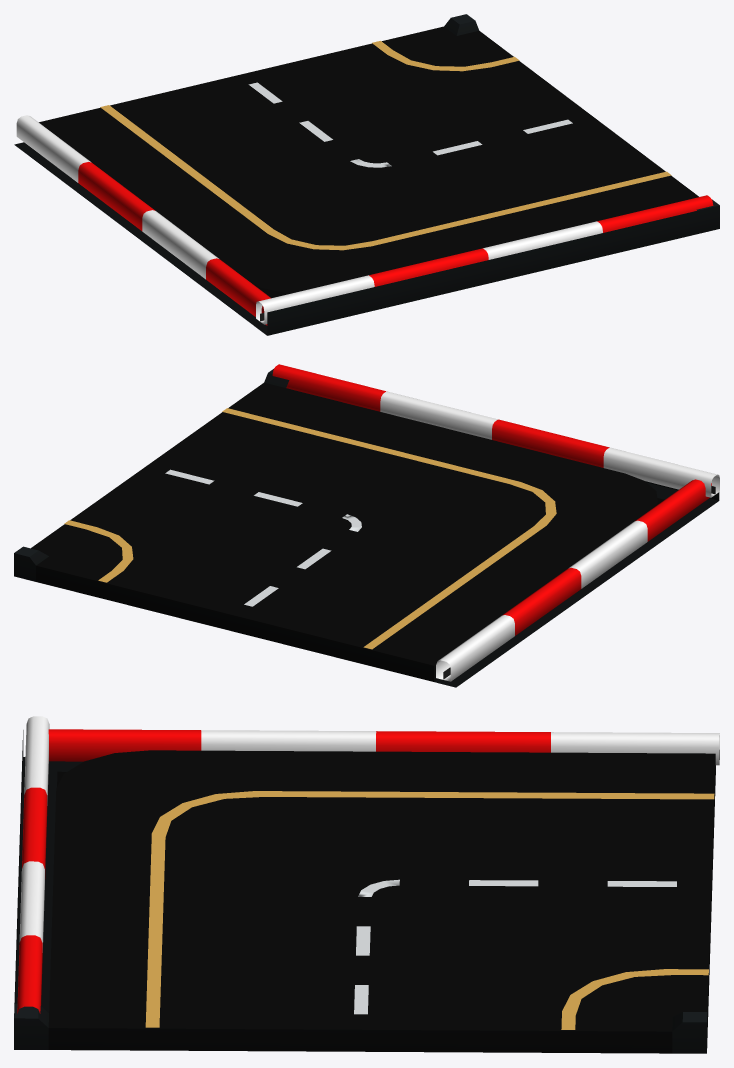
The picture shows the model from 3 angles, top to bottom: view 1: azimuth 30°, elevation 25°; view 2: azimuth 150°, elevation 25°; view 3: azimuth 270°, elevation 25°; orthographic projection. The views are drawn at different scales.
Parts seen in each view (by area): view 1: road_corner_Cube.948_road_corner_Cube.948, StraightTrack01_Cube.002_StraightTrack01_Cube.001-Mesh.001, StraightTrack01_Cube.001_StraightTrack01_Cube.001-Mesh.002; view 2: road_corner_Cube.948_road_corner_Cube.948, StraightTrack01_Cube.001_StraightTrack01_Cube.001-Mesh.002, StraightTrack01_Cube.002_StraightTrack01_Cube.001-Mesh.001; view 3: road_corner_Cube.948_road_corner_Cube.948, StraightTrack01_Cube.002_StraightTrack01_Cube.001-Mesh.001, StraightTrack01_Cube.001_StraightTrack01_Cube.001-Mesh.002.
Part boxes in pixels (left/top/right/bottom): road_corner_Cube.948_road_corner_Cube.948: left=14, top=14, right=719, bottom=335; StraightTrack01_Cube.002_StraightTrack01_Cube.001-Mesh.001: left=16, top=115, right=270, bottom=325; StraightTrack01_Cube.001_StraightTrack01_Cube.001-Mesh.002: left=256, top=195, right=713, bottom=324; road_corner_Cube.948_road_corner_Cube.948: left=14, top=369, right=719, bottom=687; StraightTrack01_Cube.001_StraightTrack01_Cube.001-Mesh.002: left=272, top=364, right=719, bottom=497; StraightTrack01_Cube.002_StraightTrack01_Cube.001-Mesh.001: left=436, top=479, right=711, bottom=681; road_corner_Cube.948_road_corner_Cube.948: left=14, top=730, right=715, bottom=1053; StraightTrack01_Cube.002_StraightTrack01_Cube.001-Mesh.001: left=48, top=729, right=719, bottom=765; StraightTrack01_Cube.001_StraightTrack01_Cube.001-Mesh.002: left=17, top=716, right=49, bottom=1013.
Size of the model in its own units: 2.03 by 0.1261 by 2.04.
